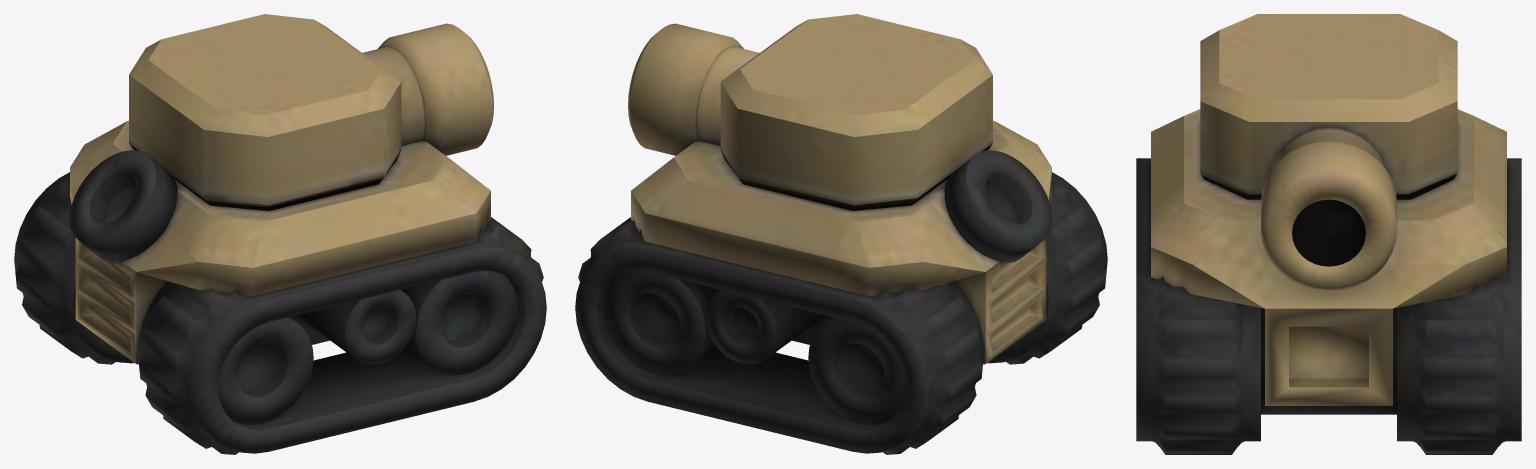
Rendered from cube_tank.glb.
3 views of the same model, side by side, from view 1: azimuth 30°, elevation 25°; view 2: azimuth 150°, elevation 25°; view 3: azimuth 270°, elevation 25° (orthographic). The views are drawn at different scales.
Visible parts, largest first — view 1: cube_tank.001; view 2: cube_tank.001; view 3: cube_tank.001.
Boxes of the visible parts, bbox=[...] form: cube_tank.001: bbox=[14, 14, 546, 454]; cube_tank.001: bbox=[575, 14, 1107, 454]; cube_tank.001: bbox=[1136, 14, 1521, 454].
Size of the model in its own units: 2.66 by 2.03 by 2.16.
Materials: 1 (1 with a texture image).
